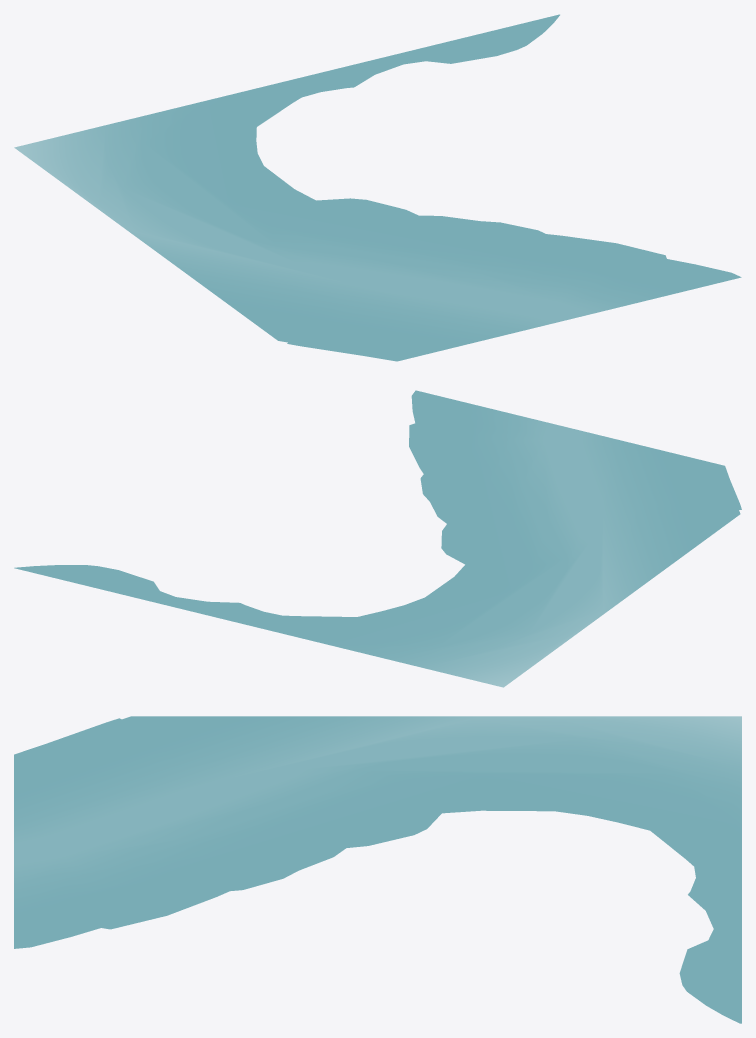
3 views of the same model, one above another, from view 1: azimuth 30°, elevation 25°; view 2: azimuth 150°, elevation 25°; view 3: azimuth 270°, elevation 25° (orthographic). The views are drawn at different scales.
Visible parts, largest first — view 1: city; view 2: city; view 3: city.
Boxes of the visible parts, bbox=[...] form: city: bbox=[14, 14, 741, 361]; city: bbox=[14, 390, 741, 687]; city: bbox=[14, 716, 741, 1023].
Bounding box in the file's own units: 500 × 0 × 500.
